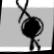not correct: (8, 0, 49, 53)
